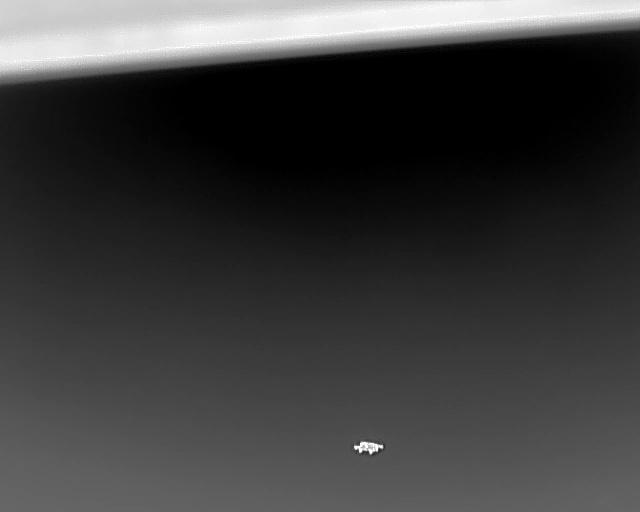fpv-drone: (353, 441, 383, 454)
